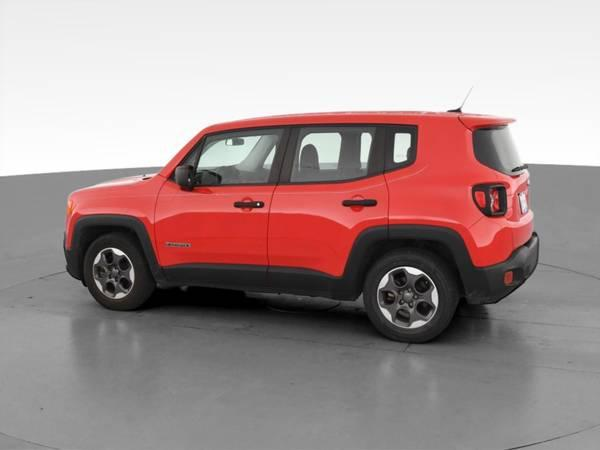Front_Bumper: (64, 249, 82, 280)
Front_Fender: (63, 175, 167, 286)
Front_Left_Door: (156, 180, 277, 291)
Front_Left_Window: (168, 125, 294, 185)
Left_Taillight: (472, 182, 507, 219)
Rear_Bumper: (450, 207, 541, 298)
Rear_Fender: (385, 124, 499, 243)
Rear_Left_Door: (267, 173, 391, 299)
Rear_Left_Window: (279, 122, 386, 185)
Rear_Windshield: (473, 128, 526, 175)
Roof: (154, 112, 511, 181)
Tailgate: (500, 169, 531, 219)
Wheel: (364, 251, 458, 343), (84, 232, 154, 309)
